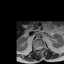CCS_normal: (39, 44, 40, 52)
LFS_normal: (42, 44, 44, 50)
LLS_normal: (40, 44, 42, 50)
RFS_normal: (35, 46, 37, 51)
RLS_normal: (37, 44, 39, 51)
